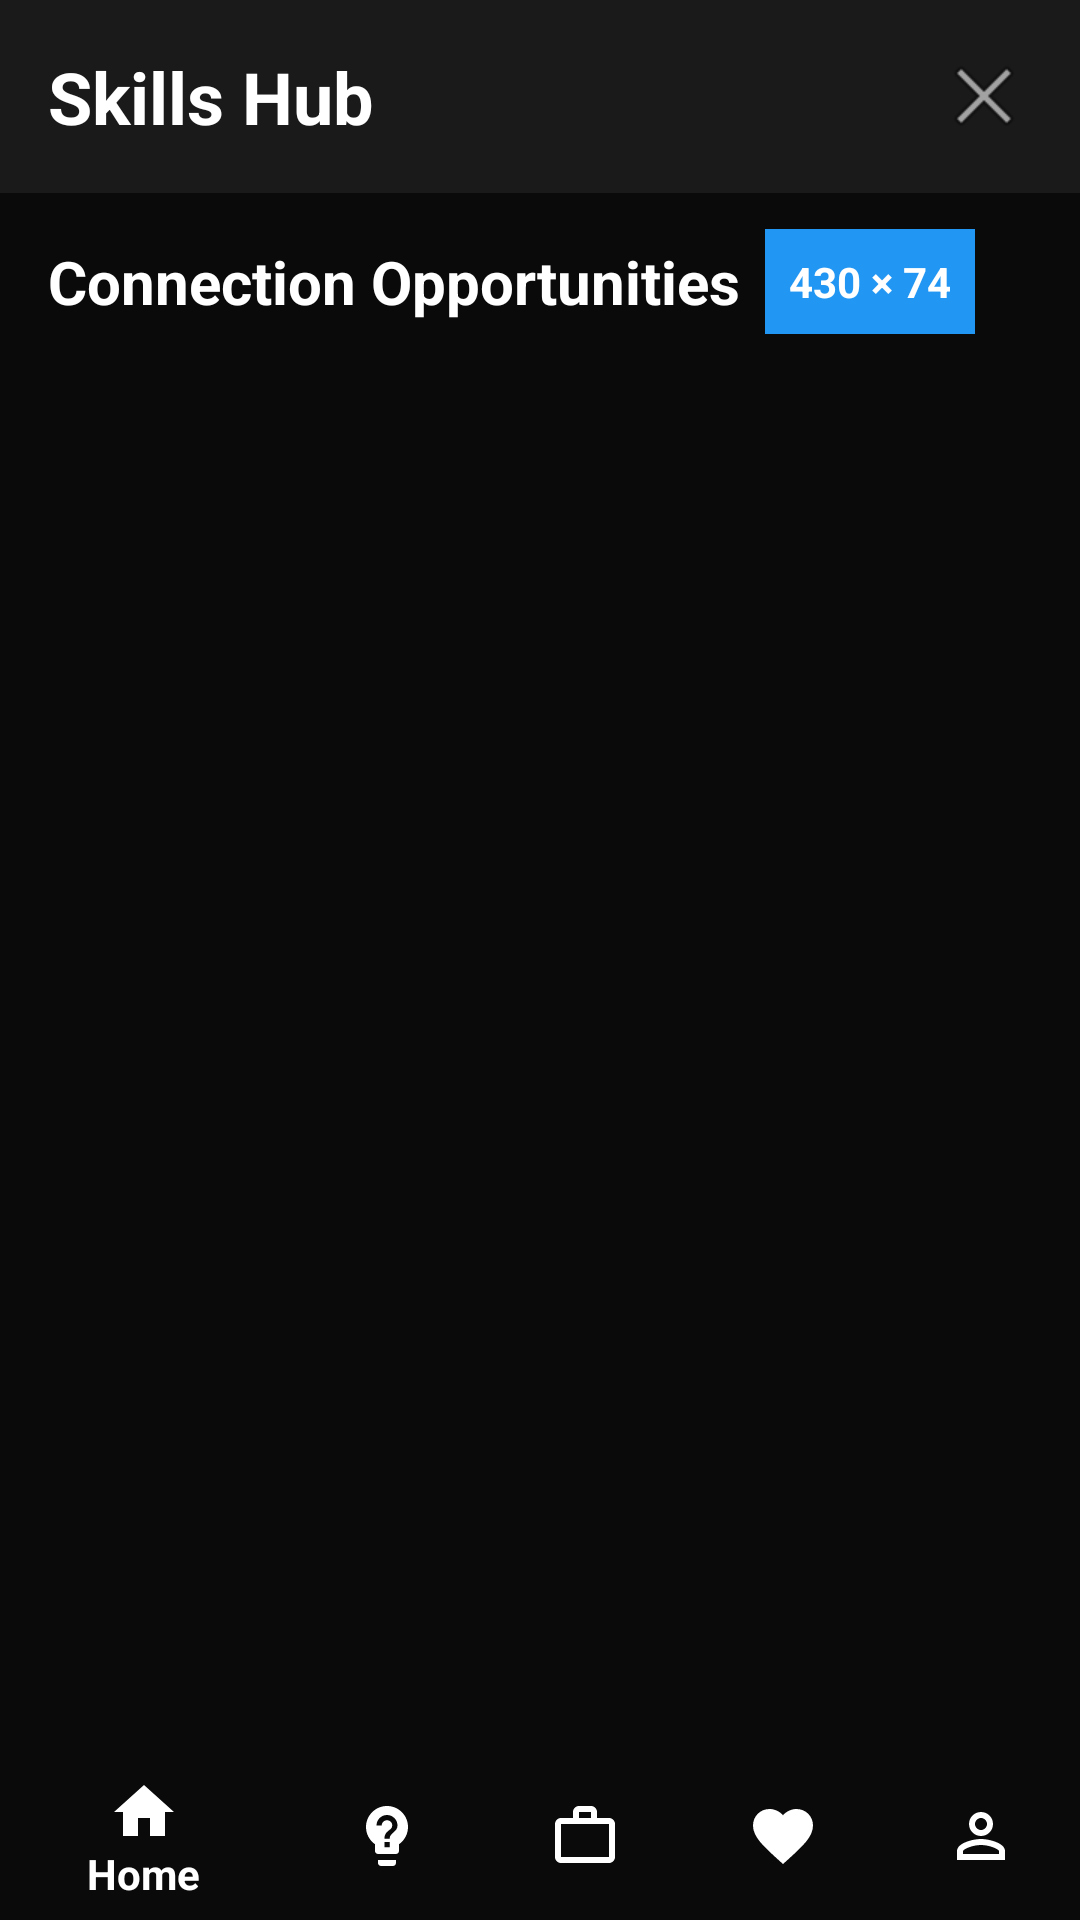

Icon bounding boxes for this 1080 x 1920 phone screenshot, format rect(x1, y1, x2, y2):
close clear cancel: rect(957, 69, 1011, 123)
